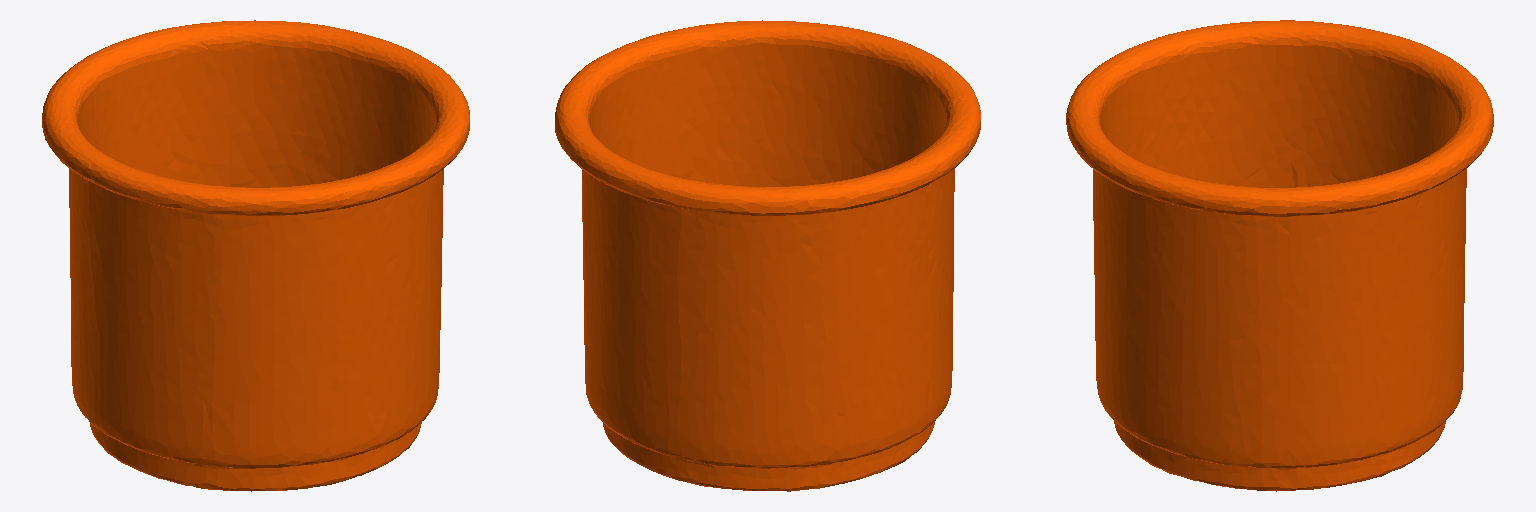
The robot description file, URDF, robot "065-h_cups":
<?xml version="1.0" ?>
<robot name="065-h_cups">
   <material name="obj_color">
      <color rgba="1.0 0.423529411765 0.0392156862745 1.0"/>
   </material>
   <link name="top">
      <inertial>
         <origin rpy="0.0001176011142373785 0.000117882375509662 0.0001261014963320561" xyz="-0.0006797488867637435 0.0005970385335990314 0.002020166945470438"/>
         <mass value="0.09144032119491607"/>
         <inertia ixx="0.0001176841309993936" ixy="1.237912699215321e-07" ixz="6.964188796721184e-08" iyy="0.0001178354512102279" iyz="-5.427939484862738e-07" izz="0.0001260654038694752"/>
      </inertial>
      <visual>
         <origin rpy="0 0 0" xyz="0 0 0"/>
         <geometry>
            <mesh filename="top_watertight_tiny.stl" scale="1 1 1"/>
         </geometry>
         <material name="obj_color"/>
      </visual>
      <collision>
         <origin rpy="0 0 0" xyz="0 0 0"/>
         <geometry>
            <mesh filename="top_watertight_tiny.obj" scale="1 1 1"/>
         </geometry>
      </collision>
   </link>
   <link name="bottom">
      <inertial>
         <origin rpy="1.633333333199431e-08 1.633333333199431e-08 1.633333333362855e-08" xyz="0.3464080000000008 0.3464080000000008 0.3464080000000008"/>
         <mass value="0.0009800000000000017"/>
         <inertia ixx="1.633333333253906e-08" ixy="5.447480642029219e-19" ixz="5.447480642029219e-19" iyy="1.633333333253906e-08" iyz="5.447480642029219e-19" izz="1.633333333253906e-08"/>
      </inertial>
      <visual>
         <origin rpy="0 0 0" xyz="0 0 0"/>
         <geometry>
            <mesh filename="bottom_watertight_tiny.stl" scale="1 1 1"/>
         </geometry>
         <material name="obj_color"/>
      </visual>
   </link>
   <link name="world"/>
   <joint name="world_to_base" type="fixed">
      <origin xyz="0 0 0"/>
      <axis xyz="0 0 0"/>
      <parent link="world"/>
      <child link="bottom"/>
   </joint>
   <joint name="rotation" type="revolute">
      <origin xyz="0 0 0"/>
      <axis xyz="0 0 -1"/>
      <parent link="bottom"/>
      <child link="top"/>
      <dynamics damping="1.0" friction="1.0"/>
      <limit effort="0.1" velocity="0.1" lower="0" upper="0.001"/>
   </joint>
</robot>

--- Facts derived from the render (not from the file) ---
3 views of the same robot in one strip: view 1: azimuth 30°, elevation 25°; view 2: azimuth 150°, elevation 25°; view 3: azimuth 270°, elevation 25° (orthographic).
Robot: 065-h_cups — 3 links, 2 joints (1 revolute, 1 fixed); root link world; default pose: every joint at zero.
Visible links, largest first — view 1: top; view 2: top; view 3: top.
Boxes of the visible links, bbox=[...] form: top: bbox=[42, 20, 469, 491]; top: bbox=[555, 20, 980, 491]; top: bbox=[1066, 20, 1493, 491].
Bounding box of the posed robot: 0.0915 × 0.0916 × 0.0751 m (x, y, z).
Meshes: 2 distinct files referenced, 1 mesh visuals loaded (1 binary STL); not drawn: 1 (reference not matched to a file when rendering).
